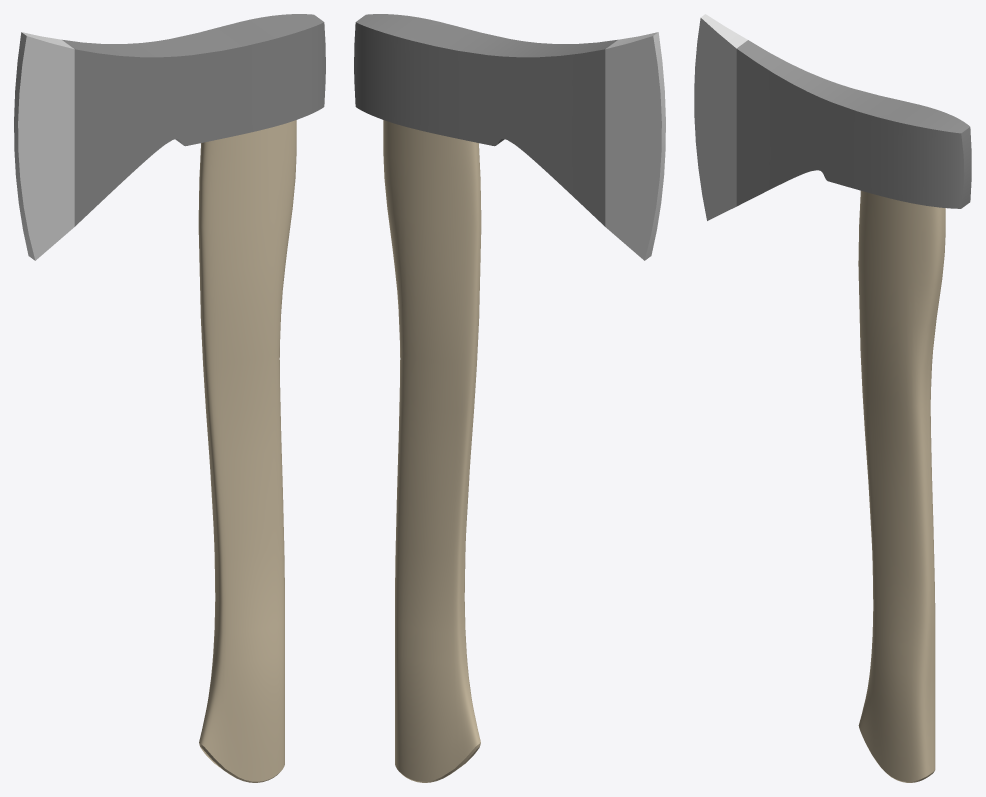
Rendered from 663_axe.fbx.
3 renders of one model, left to right at view 1: azimuth 30°, elevation 25°; view 2: azimuth 150°, elevation 25°; view 3: azimuth 330°, elevation 25°, orthographic. The views are drawn at different scales.
Visible parts, largest first — view 1: Body; view 2: Body; view 3: Body.
Part boxes in pixels (<box>): Body: <box>14,14,325,782</box>; Body: <box>354,14,665,782</box>; Body: <box>694,14,971,782</box>.
Size of the model in its own units: 15.54 by 38.79 by 2.32.
